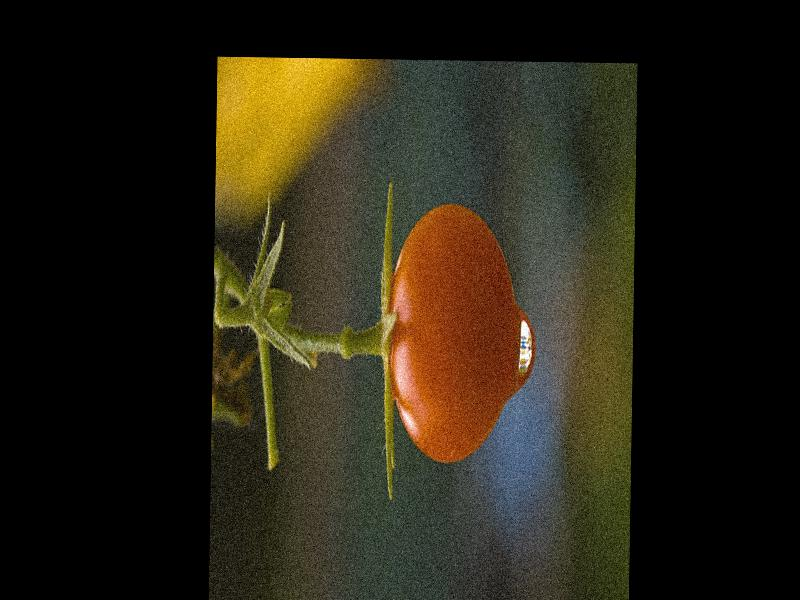Tomato: (386, 204, 517, 466)
